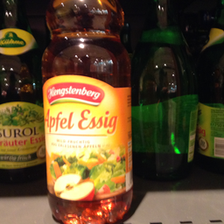vinegar: (41, 1, 143, 222), (136, 1, 197, 179), (1, 1, 41, 184)
